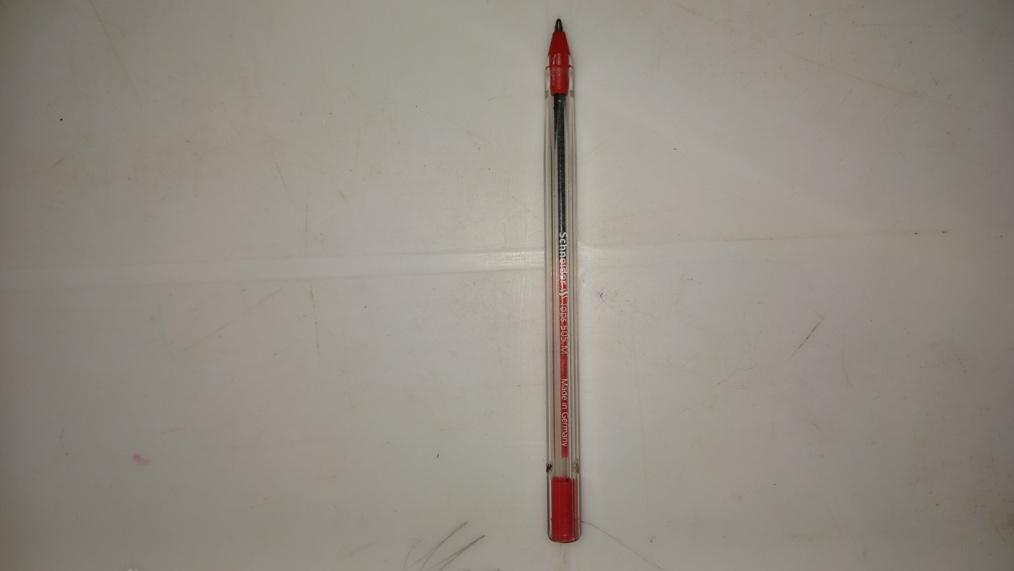pen: (542, 16, 587, 543)
